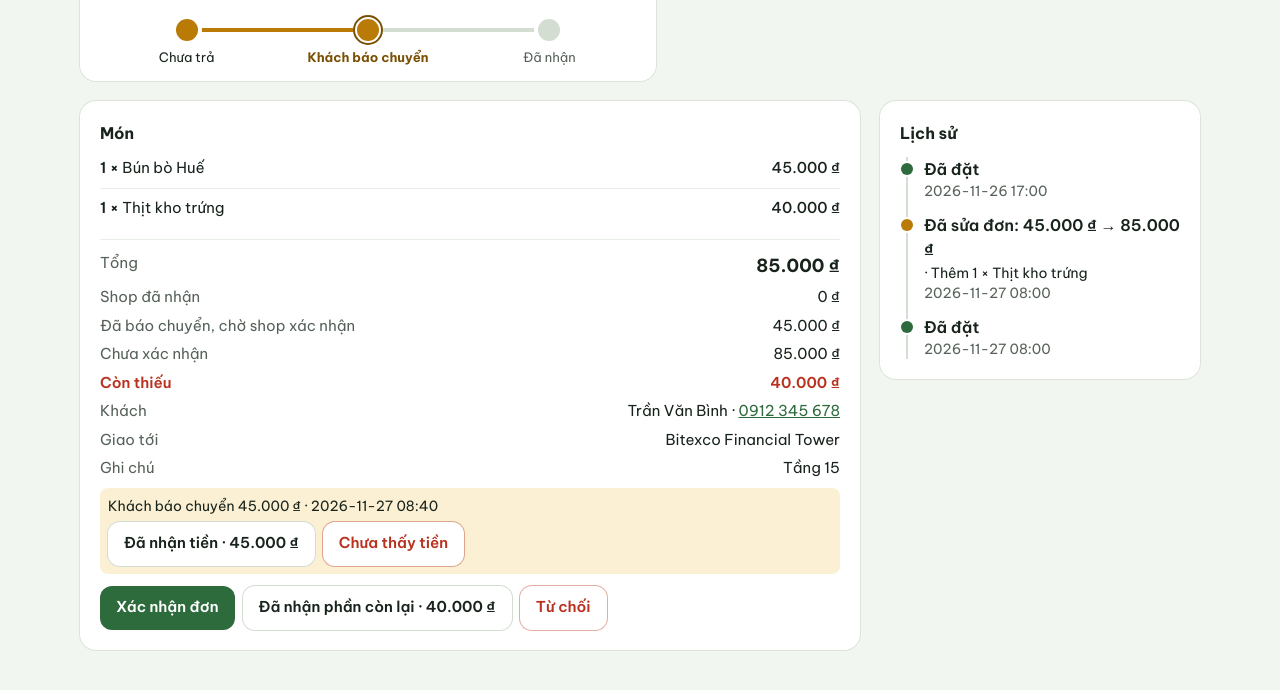
Test: reported transfer, not confirmed (CN-37 – CN-42) › CN-42, CN-41: the shop sees the amounts, and "Not received yet" clears the report
(page scrolled)
Expected: the text "Khách báo chuyển" is shown, [308,49,429,65]
Expected: the button "Đã nhận tiền · 45.000 ₫" is shown, [108,522,315,566]
Click the button "Chưa thấy tiền": (393, 544) [323,522,464,566]
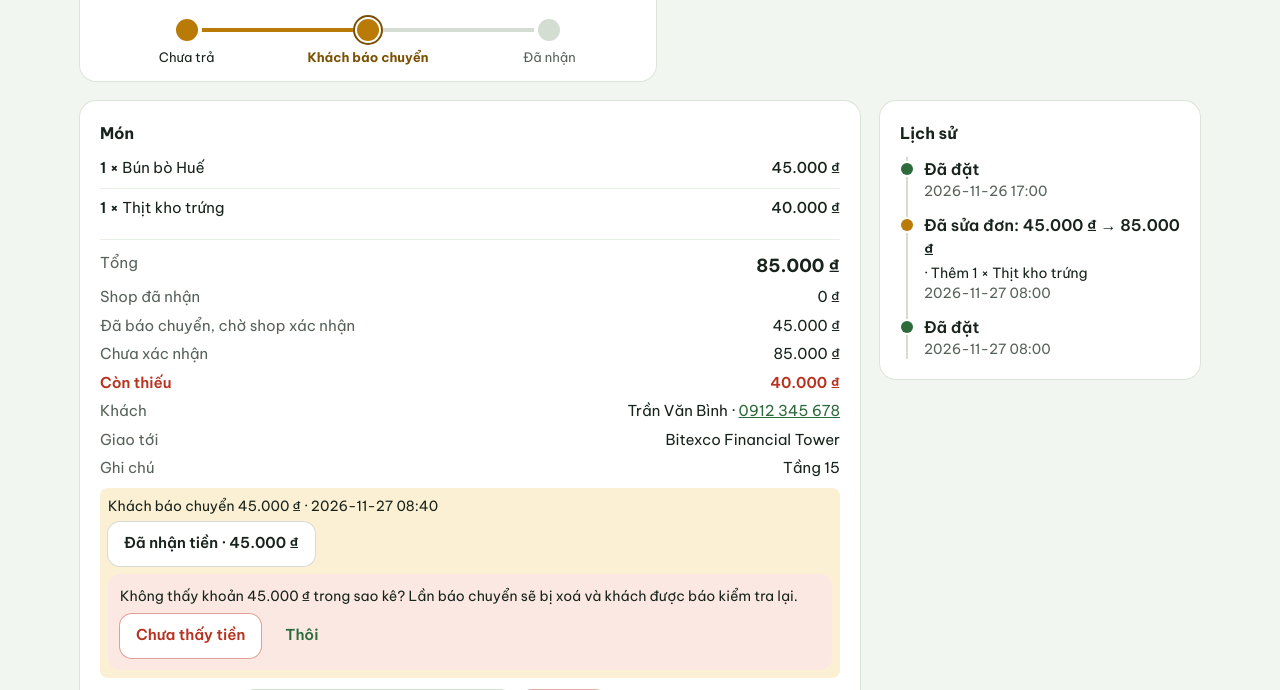
Click the button "Chưa thấy tiền": (191, 636) [120,614,261,658]
(page scrolled)
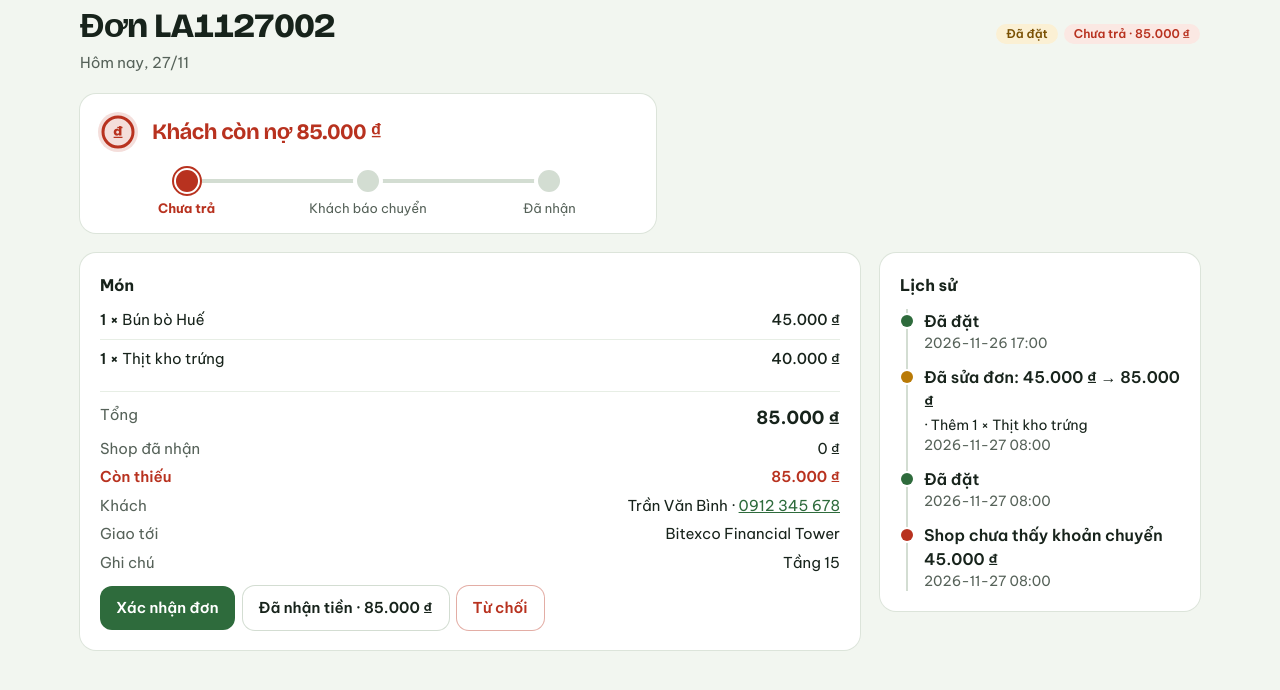
Expected: the button "Chưa thấy tiền" is gone
Expected: the text "Shop chưa thấy khoản chuyển 45.000 ₫" is shown, [924,523,1180,571]
Expected: the button "Đã nhận tiền · 85.000 ₫" is shown, [243,586,448,630]
